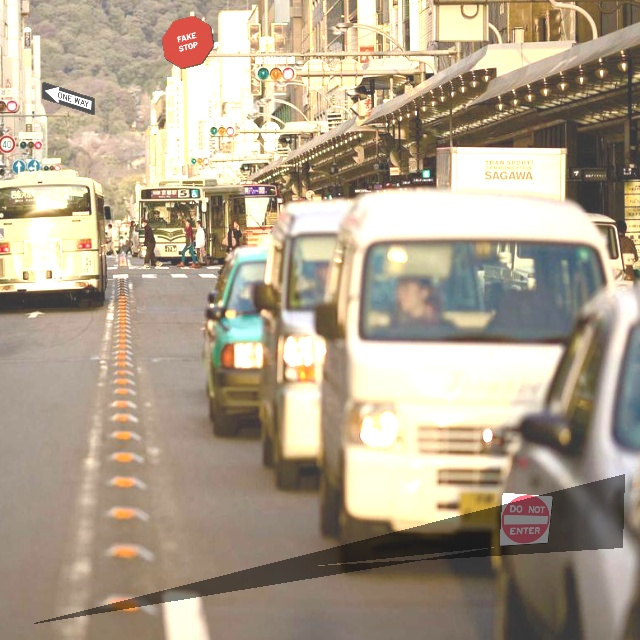DO_NOT_ENTER: (499, 492, 553, 546)
FAKE_STOP: (161, 15, 214, 69)
ONE_WAY_ left: (41, 81, 95, 115)
